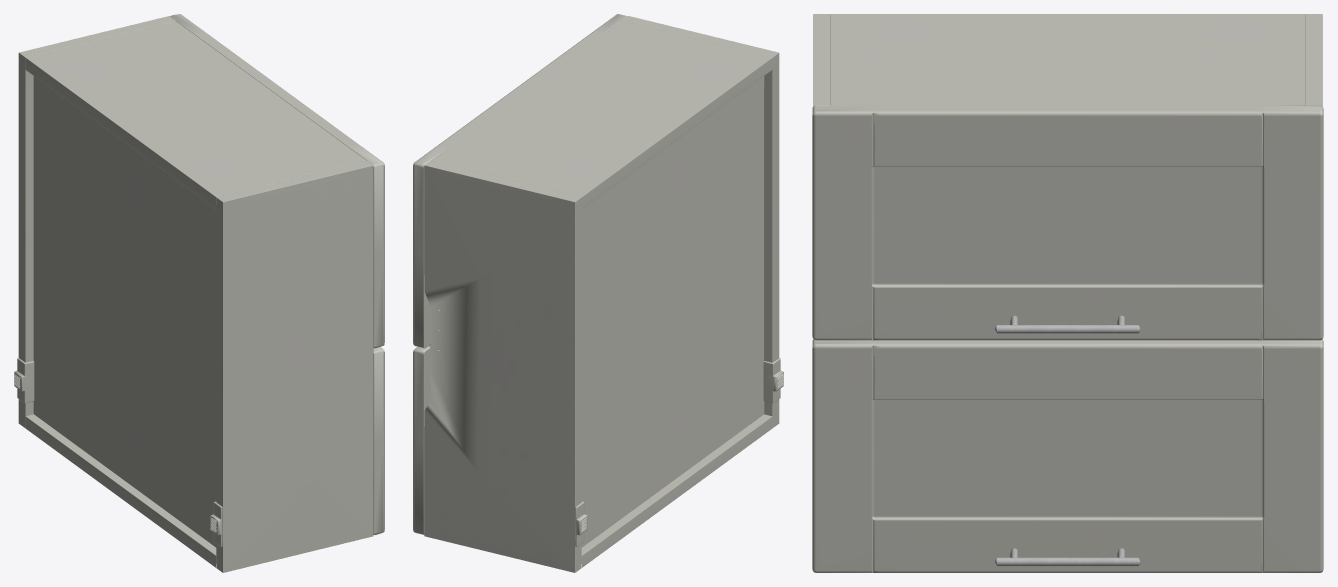
Rendered from fixture_cabinet_a01.glb.
3 renders of one model, left to right at view 1: azimuth 30°, elevation 25°; view 2: azimuth 150°, elevation 25°; view 3: azimuth 270°, elevation 25°, orthographic. The views are drawn at different scales.
Parts seen in each view (by area): view 1: sm_fixture_cabinet_a01_01; view 2: sm_fixture_cabinet_a01_01; view 3: sm_fixture_cabinet_a01_01.
Boxes of the visible parts, <box> form: sm_fixture_cabinet_a01_01: <box>14,14,384,572</box>; sm_fixture_cabinet_a01_01: <box>413,14,783,572</box>; sm_fixture_cabinet_a01_01: <box>812,14,1323,572</box>.
Size of the model in its own units: 0.4052 by 0.7628 by 0.7636.
Materials: 9 (9 with a texture image).
